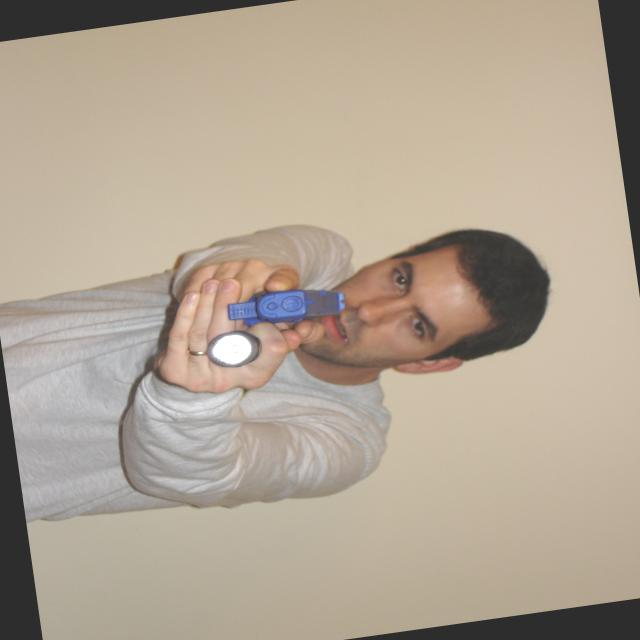handgun: (223, 278, 352, 334)
